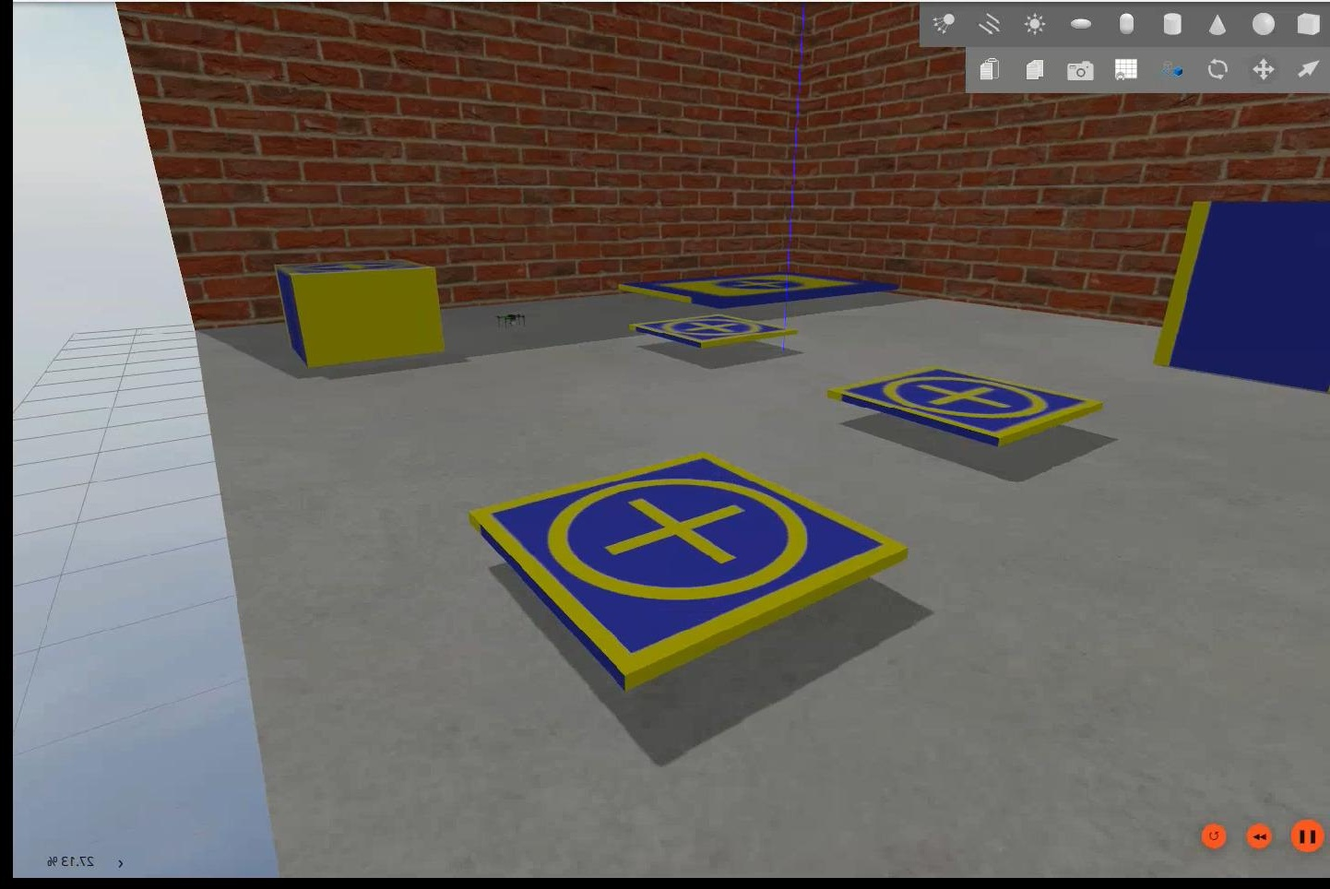large_base: (612, 267, 898, 314)
small_base: (463, 455, 904, 691), (824, 367, 1097, 449), (624, 308, 797, 358), (267, 256, 433, 288)
